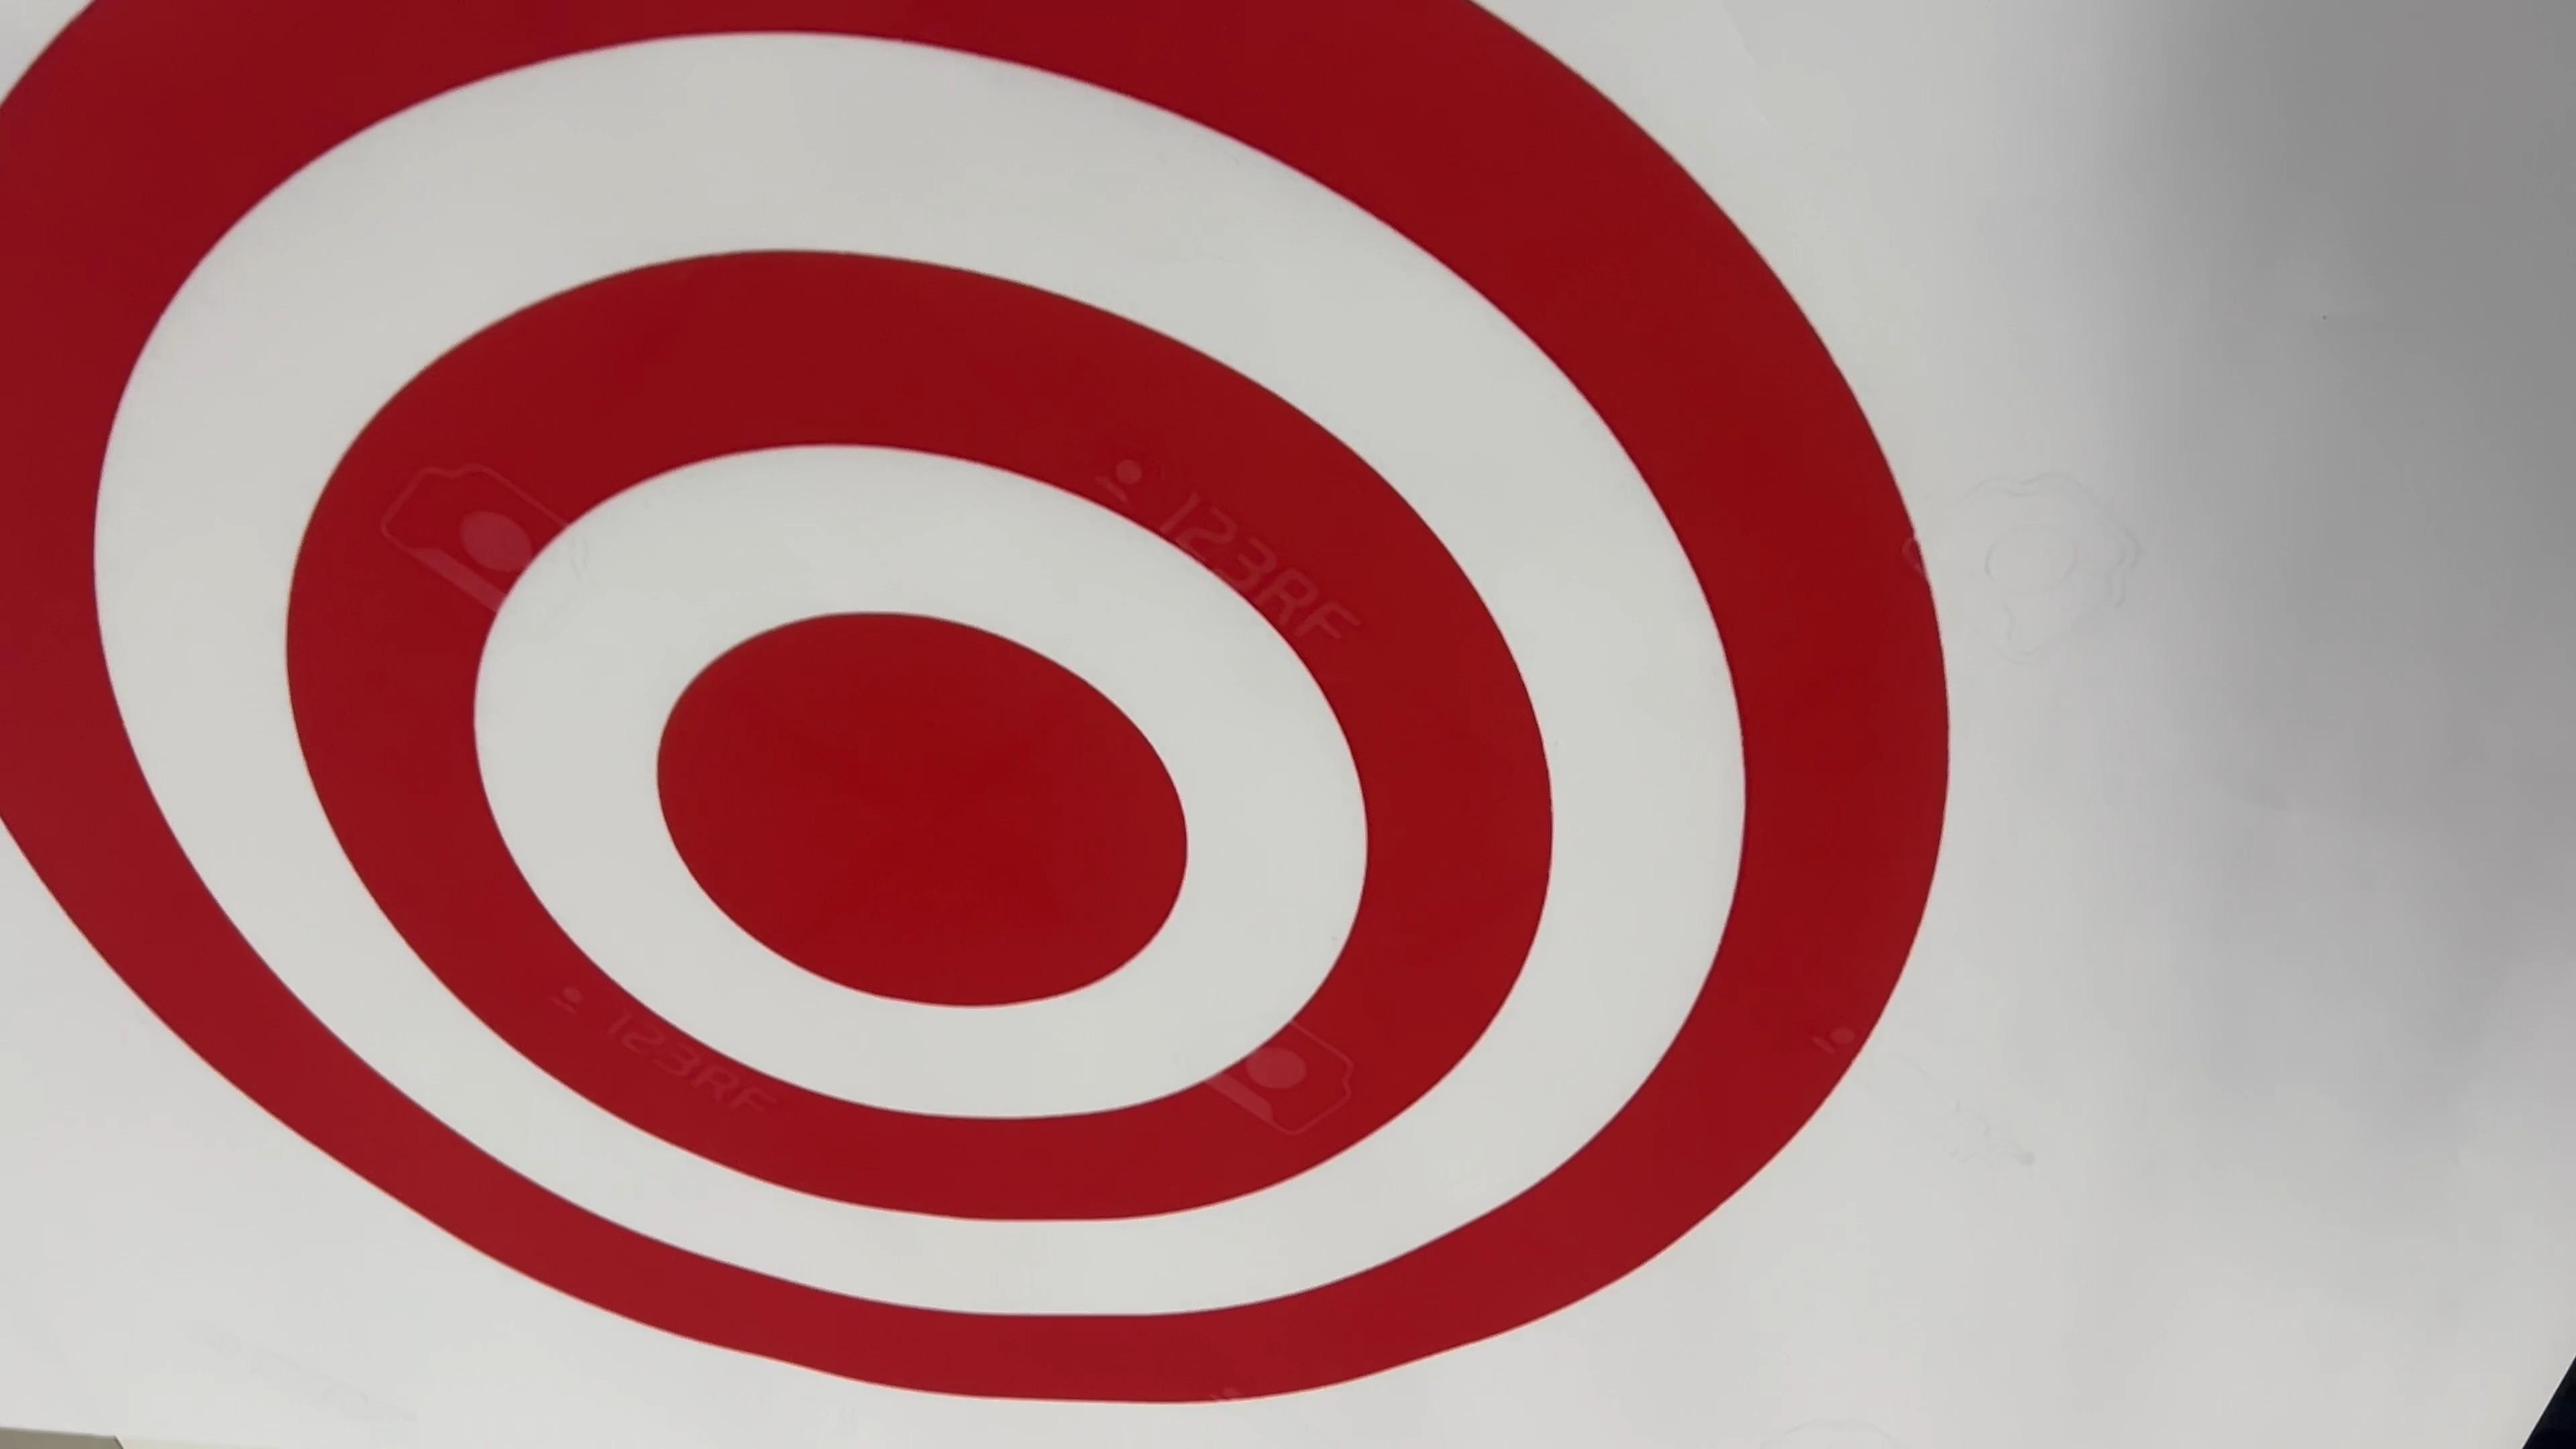target_red: (0, 7, 1966, 1449)
